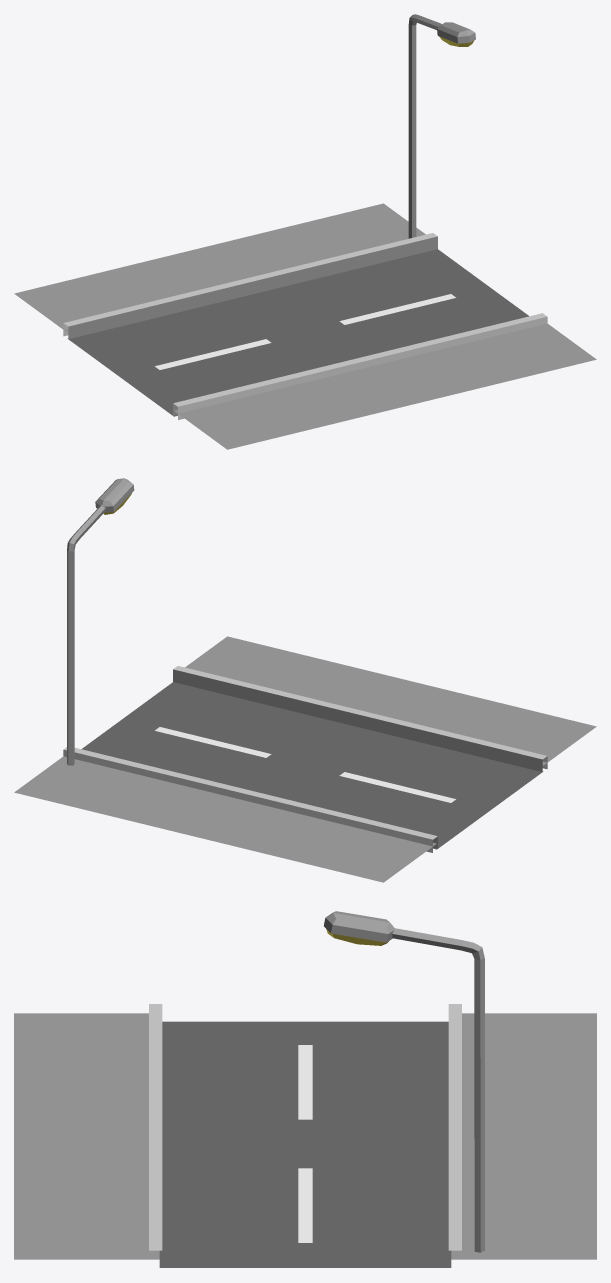
File: road_tile_1x1_001.fbx
3 views of the same model, one above another, from view 1: azimuth 30°, elevation 25°; view 2: azimuth 150°, elevation 25°; view 3: azimuth 270°, elevation 25° (orthographic). The views are drawn at different scales.
Visible parts, largest first — view 1: road_tile_1x1_001; view 2: road_tile_1x1_001; view 3: road_tile_1x1_001.
Part boxes in pixels (box(x1,y1,x2,y2)): road_tile_1x1_001: box(14, 14, 596, 449); road_tile_1x1_001: box(14, 478, 596, 882); road_tile_1x1_001: box(14, 911, 596, 1267).
Bounding box in the file's own units: 800 × 525 × 800.
